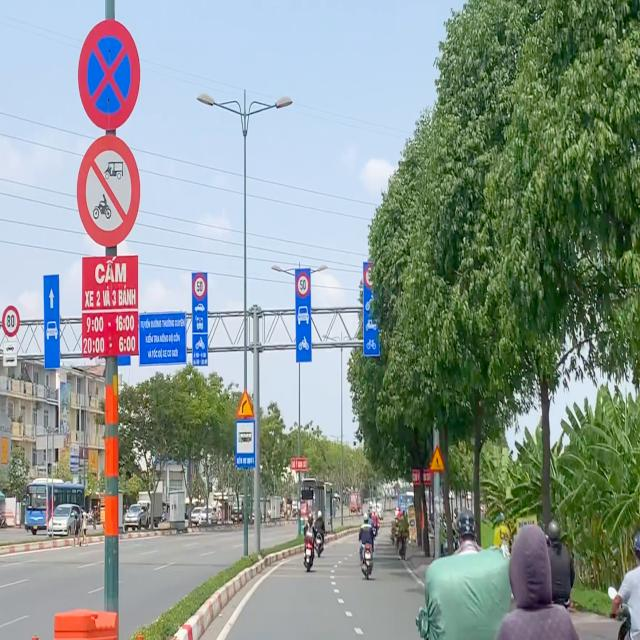Cam dung va do: (77, 18, 141, 132)
Hieu lenh: (235, 419, 256, 468)
Nguoi di bo cat ngang: (428, 444, 446, 472)
Nguy hiem: (235, 387, 255, 418)
Toc do toi da: (2, 305, 20, 338), (295, 272, 310, 297), (192, 274, 206, 300), (364, 264, 378, 288)
